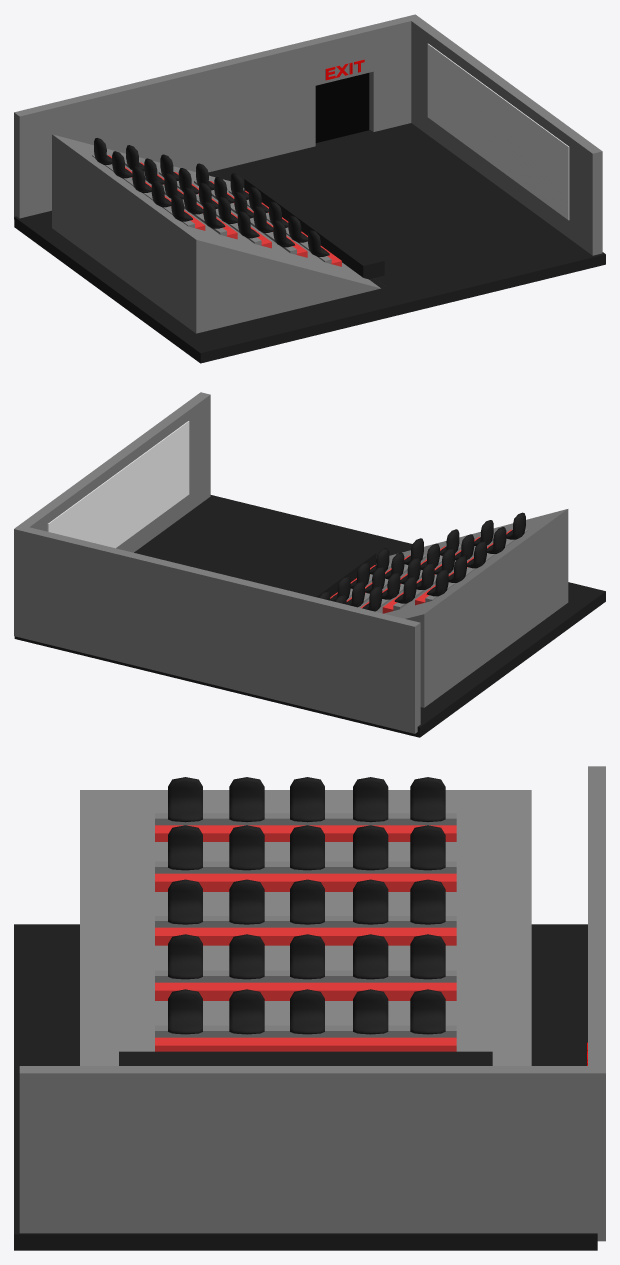
The model's file is 9daeef0b-c2b4-43e3-8f14-e6e933326547.glb.
3 renders of one model, top to bottom at view 1: azimuth 30°, elevation 25°; view 2: azimuth 150°, elevation 25°; view 3: azimuth 270°, elevation 25°, orthographic. The views are drawn at different scales.
Visible parts, largest first — view 1: Box043; view 2: Box043; view 3: Box043.
Part boxes in pixels (x1,y1,x2,y2): Box043: (14,14,605,363); Box043: (14,392,605,737); Box043: (14,766,605,1250).
Bounding box in the file's own units: 150 × 42.22 × 121.
